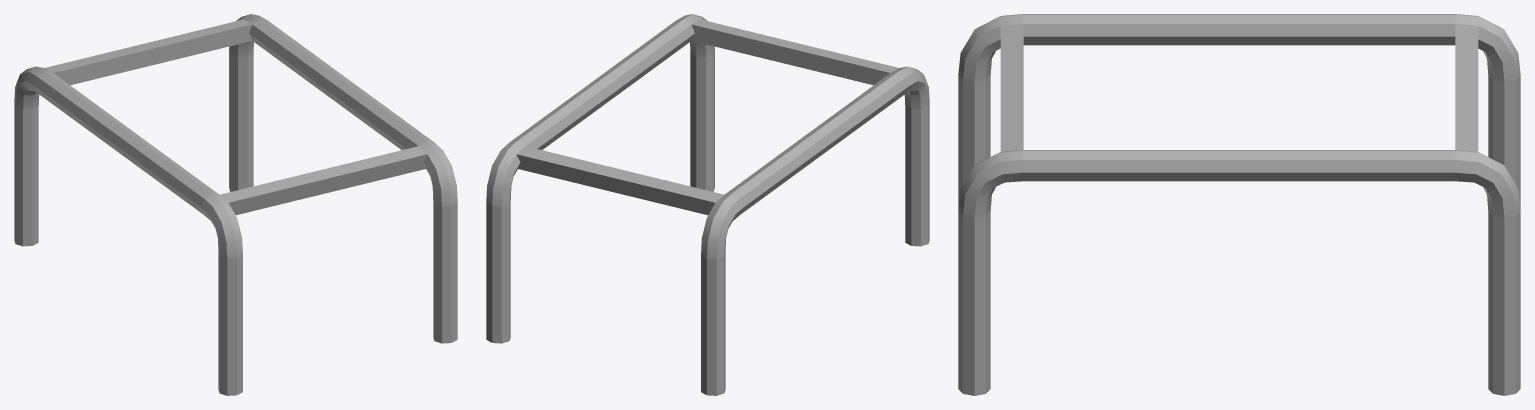
The model's file is BasketHolder.fbx.
3 views of the same model, side by side, from view 1: azimuth 30°, elevation 25°; view 2: azimuth 150°, elevation 25°; view 3: azimuth 270°, elevation 25° (orthographic). The views are drawn at different scales.
Visible parts, largest first — view 1: pCylinder19; view 2: pCylinder19; view 3: pCylinder19.
Part boxes in pixels (<box>): pCylinder19: <box>14,14,457,395</box>; pCylinder19: <box>486,14,929,395</box>; pCylinder19: <box>958,14,1520,395</box>.
Bounding box in the file's own units: 4.52 × 3.35 × 7.16.
1 material, 1 textured.
